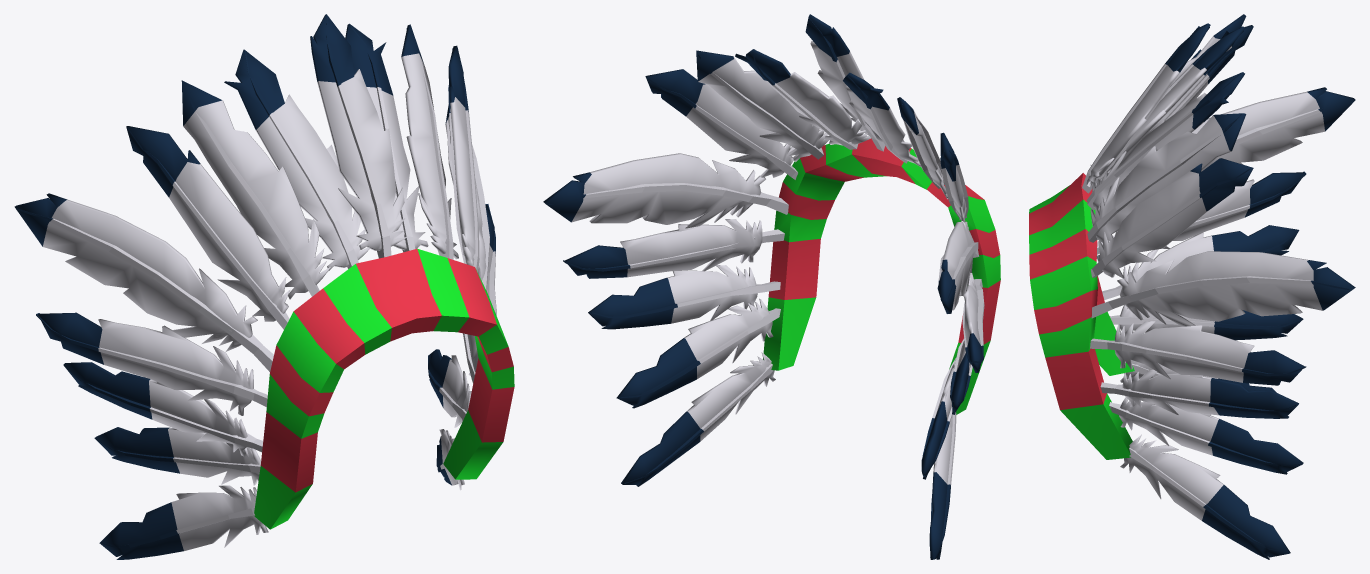
The model's file is Indian_feather_hat.fbx.
3 renders of one model, left to right at view 1: azimuth 30°, elevation 25°; view 2: azimuth 150°, elevation 25°; view 3: azimuth 270°, elevation 25°, orthographic. The views are drawn at different scales.
Parts seen in each view (by area): view 1: Indian_feather_hat; view 2: Indian_feather_hat; view 3: Indian_feather_hat.
Part boxes in pixels (x1=…): Indian_feather_hat: x1=14, y1=14, x2=514, y2=559; Indian_feather_hat: x1=543, y1=14, x2=1000, y2=559; Indian_feather_hat: x1=1029, y1=14, x2=1355, y2=559.
Bounding box in the file's own units: 1.33 × 1.48 × 0.9354.
